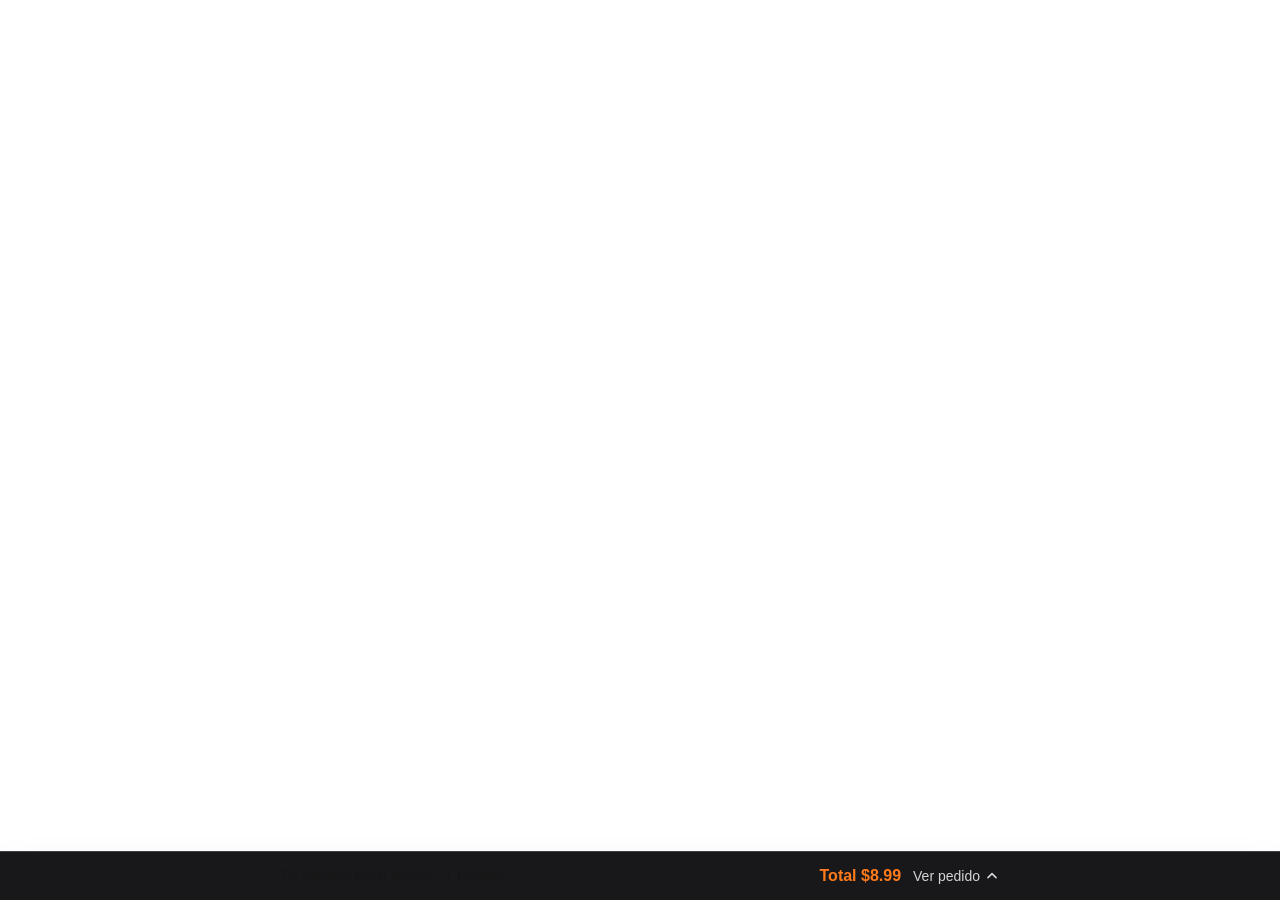
Test: la barra indica que se puede abrir y luego ocultar
The image size is (1280, 900).
Click the button "Tu pedido para llevar · 1 platillo Total $8.99 Ver pedido".
click(362, 876)  # box [280, 864, 1000, 888]
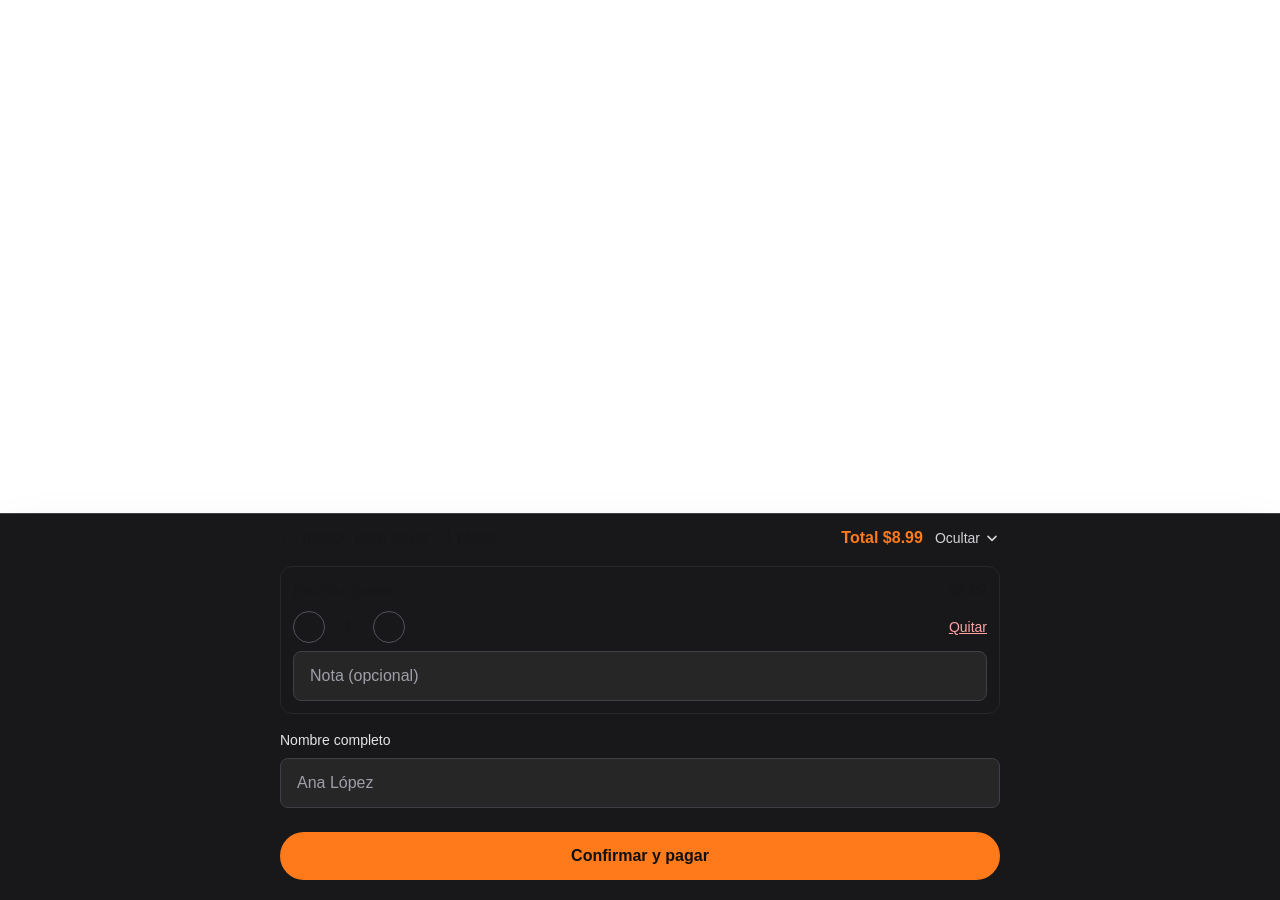
expect the button "Tu pedido para llevar · 1 platillo Total $8.99 Ocultar" is shown: met, box [280, 526, 1000, 550]
expect the button "Tu pedido para llevar · 1 platillo Total $8.99 Ocultar" is expanded: met, box [280, 526, 1000, 550]
